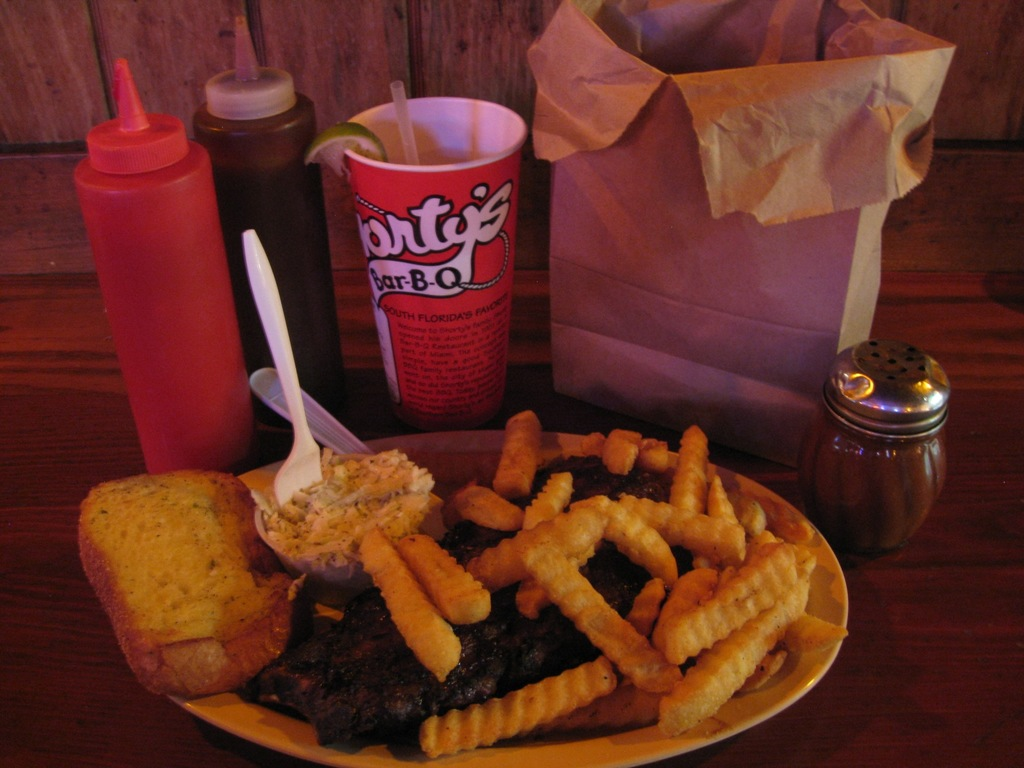French fries: (394, 403, 830, 751)
